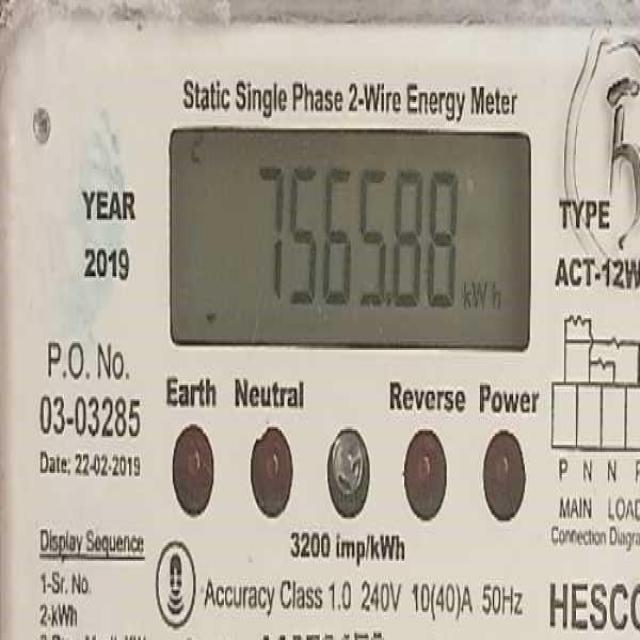5: (287, 160, 318, 304), (361, 162, 387, 308)
6: (321, 160, 354, 310)
7: (257, 159, 290, 306)
8: (393, 154, 425, 309), (425, 167, 458, 310)
Digital meter: (170, 136, 529, 350)
point: (385, 288, 395, 308)
